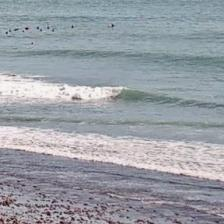surfer: (12, 28, 18, 31), (8, 74, 16, 76), (111, 23, 114, 27), (40, 28, 43, 32), (36, 26, 40, 29), (24, 27, 28, 30), (22, 30, 26, 33), (5, 31, 8, 35), (71, 25, 74, 28), (47, 26, 50, 29), (9, 29, 12, 32), (52, 29, 54, 32), (32, 42, 34, 44)
